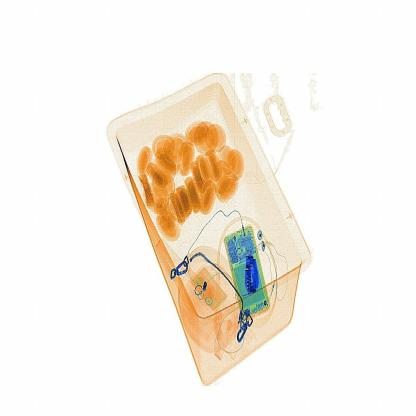scissors: (237, 246, 266, 304)
